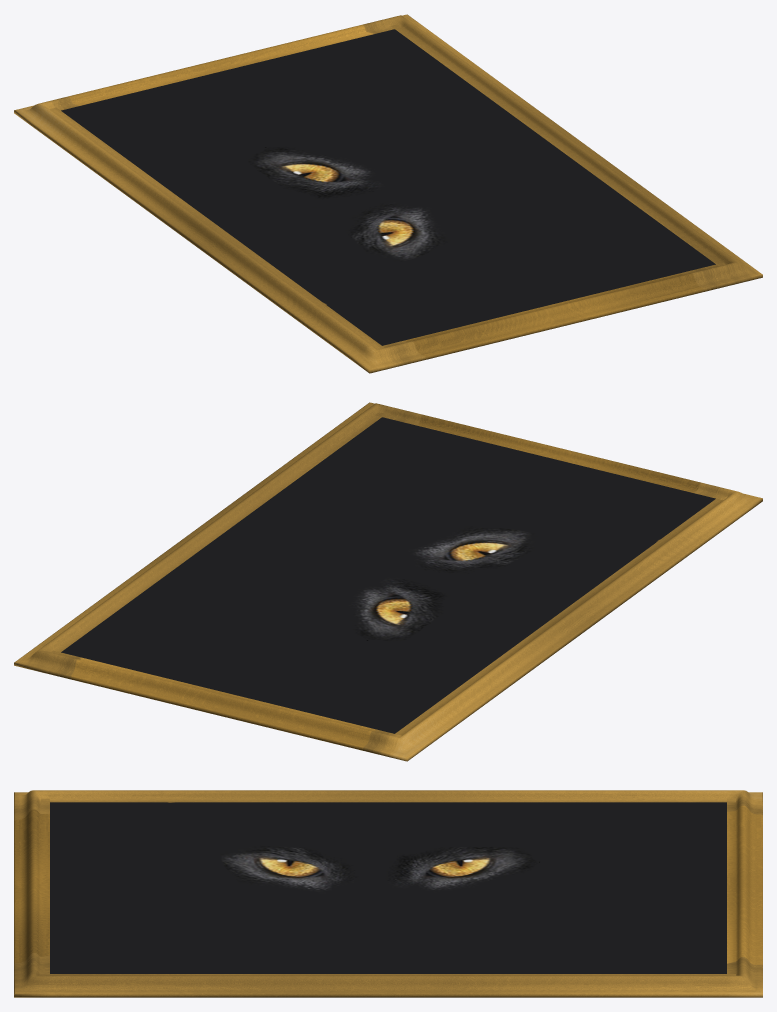
File: YellowEyesPainting.FBX
The picture shows the model from 3 angles, top to bottom: view 1: azimuth 30°, elevation 25°; view 2: azimuth 150°, elevation 25°; view 3: azimuth 270°, elevation 25°; orthographic projection. The views are drawn at different scales.
Visible parts, largest first — view 1: PaintingPane001; view 2: PaintingPane001; view 3: PaintingPane001.
Boxes of the visible parts, x1=… form: PaintingPane001: x1=14, y1=14, x2=762, y2=373; PaintingPane001: x1=14, y1=402, x2=762, y2=761; PaintingPane001: x1=14, y1=790, x2=762, y2=997.
Size of the model in its own units: 56.52 by 1.77 by 88.52.
